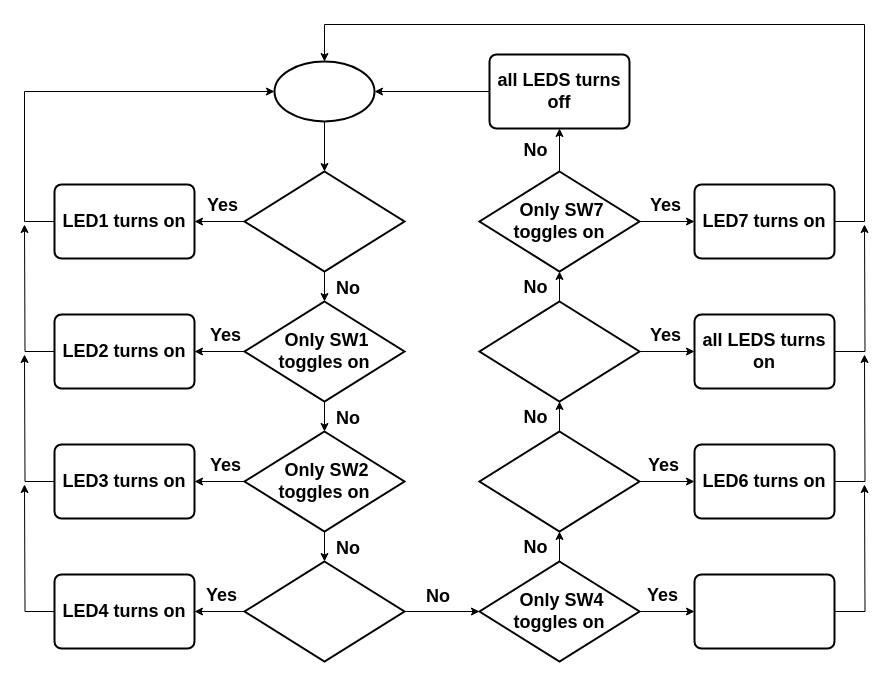
Some shapes in this 891 by 680 pixel diagram are drawn without their labels. Here are the shapes that lost their labels. From the top down, the centre of each, then its label:
At [324,91]: "Start".
At [324,221]: "Only SW0 toggles on".
At [559,351]: "Only SW6 toggles on".
At [559,481]: "Only SW5 toggles on".
At [324,611]: "Only SW3 toggles on".
At [764,611]: "LED5 turns on".
